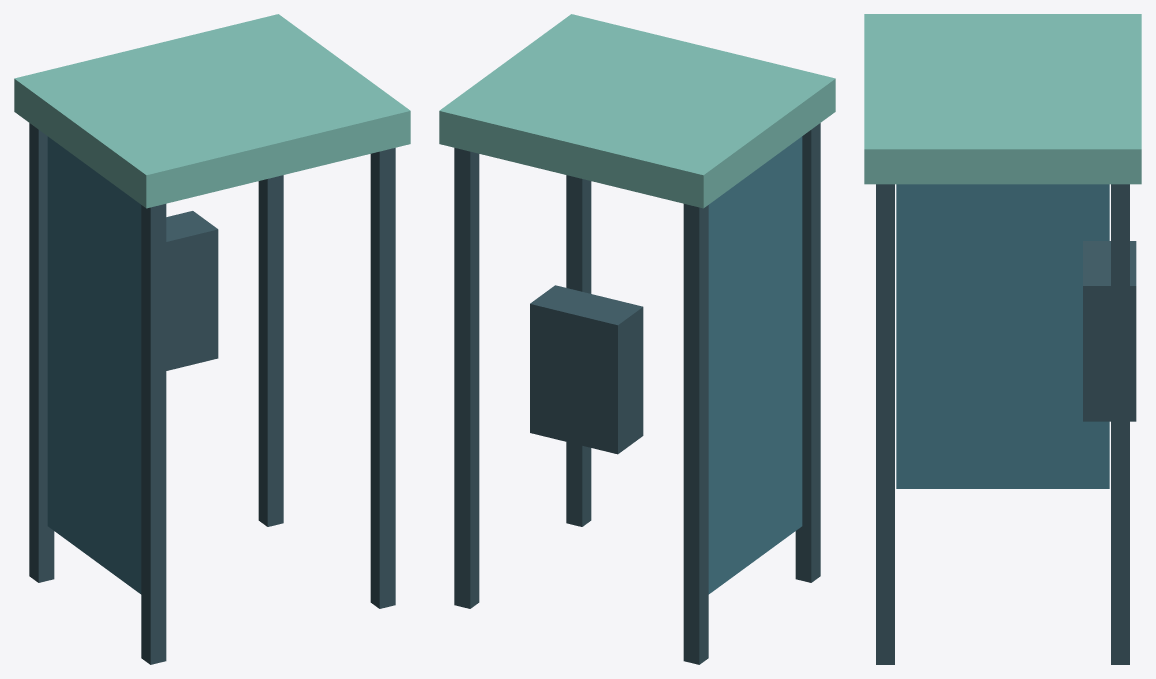
The model's file is phoneBooth.obj.
The picture shows the model from 3 angles, left to right: view 1: azimuth 30°, elevation 25°; view 2: azimuth 150°, elevation 25°; view 3: azimuth 270°, elevation 25°; orthographic projection. The views are drawn at different scales.
Visible parts, largest first — view 1: phoneBooth; view 2: phoneBooth; view 3: phoneBooth.
Part boxes in pixels (x1,y1,x2,y2): phoneBooth: [14, 14, 410, 664]; phoneBooth: [439, 14, 835, 664]; phoneBooth: [864, 14, 1141, 664].
Size of the model in its own units: 1.5 by 2.69 by 1.3.
